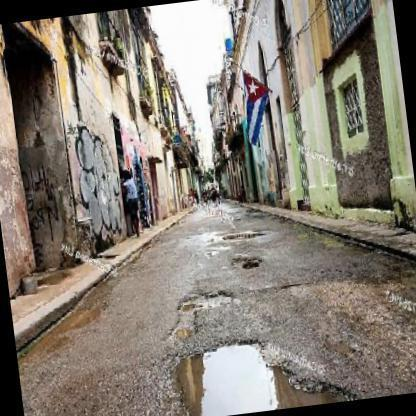pothole: (176, 333, 368, 416), (164, 288, 244, 346), (234, 255, 264, 271)
